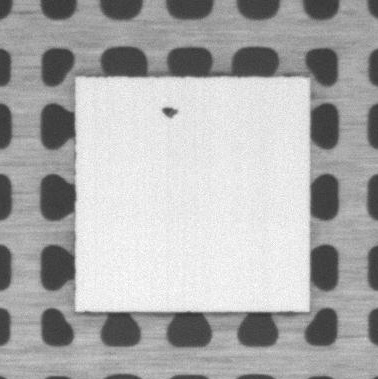DIE_INK: (162, 106, 179, 119)
